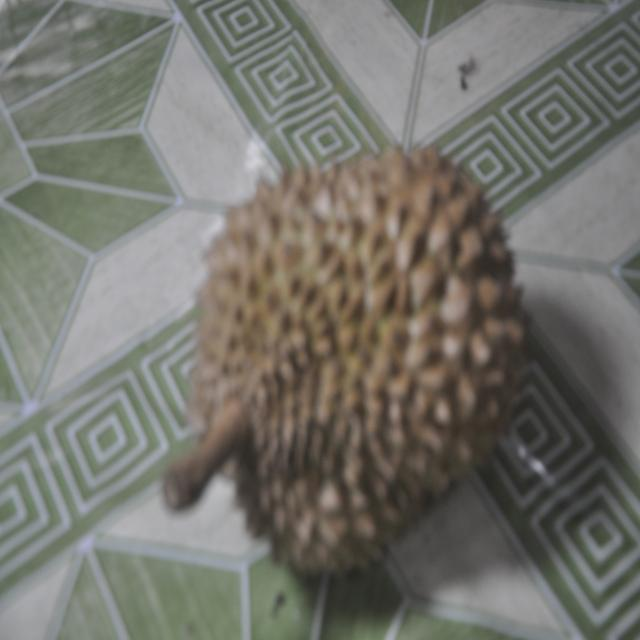mature: (164, 148, 524, 574)
